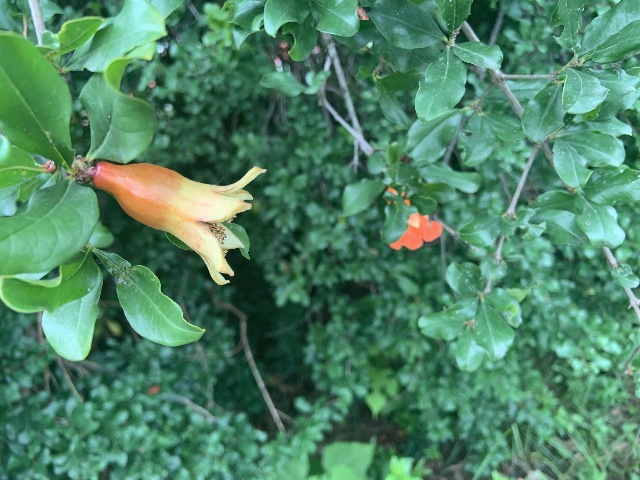early-fruit: (92, 160, 263, 285)
flower: (385, 187, 442, 250)
